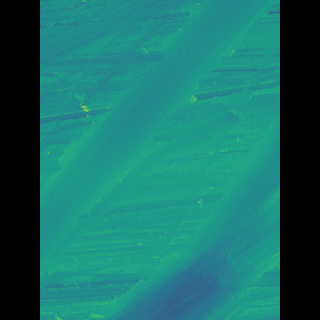Loch: (70, 0, 245, 278), (101, 114, 250, 320)
